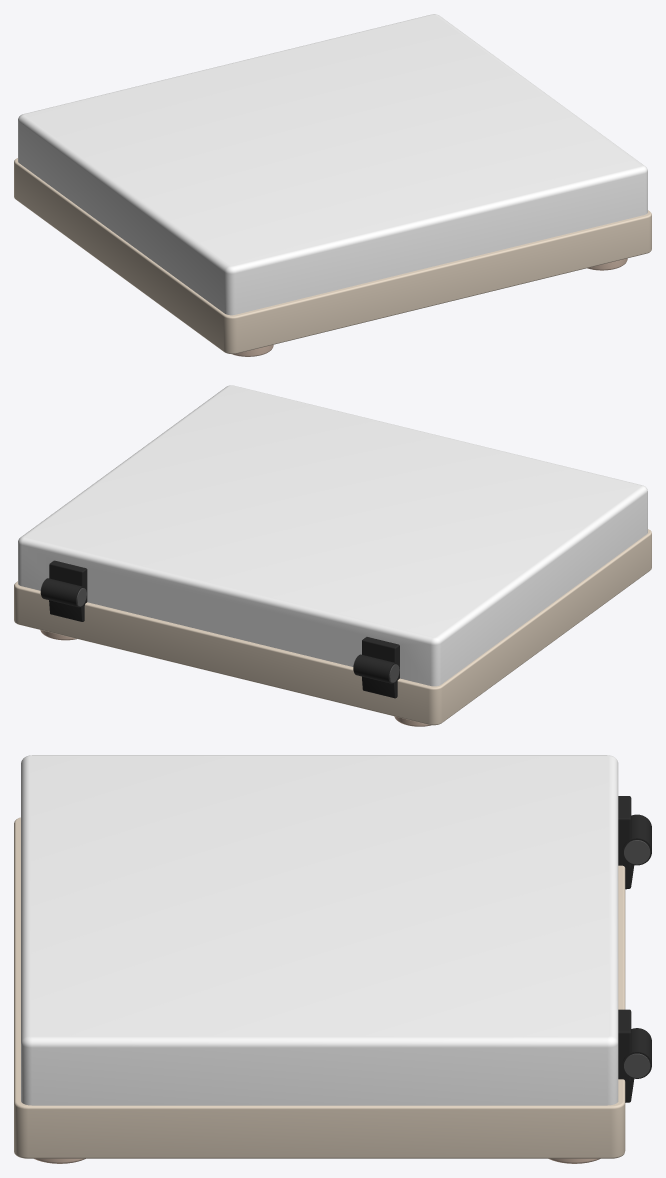
File: turntable.glb
3 views of the same model, one above another, from view 1: azimuth 30°, elevation 25°; view 2: azimuth 150°, elevation 25°; view 3: azimuth 270°, elevation 25° (orthographic). The views are drawn at different scales.
Visible parts, largest first — view 1: CoverGlass, PlinthBody; view 2: CoverGlass, PlinthBody, HingeBarrelLCap, HingeBarrelRCap, CoverHingeR, CoverHingeL, HingeBracketL, HingeBracketR; view 3: CoverGlass, PlinthBody, CoverHingeR, CoverHingeL, HingeBarrelLCap, HingeBarrelRCap.
Part boxes in pixels (x1=…): CoverGlass: x1=18, y1=14, x2=647, y2=315; PlinthBody: x1=14, y1=158, x2=651, y2=354; CoverGlass: x1=18, y1=385, x2=647, y2=686; PlinthBody: x1=14, y1=529, x2=651, y2=725; HingeBarrelLCap: x1=353, y1=654, x2=398, y2=683; HingeBarrelRCap: x1=41, y1=578, x2=85, y2=607; CoverHingeR: x1=49, y1=560, x2=87, y2=606; CoverHingeL: x1=362, y1=637, x2=399, y2=679; HingeBracketL: x1=362, y1=676, x2=397, y2=698; HingeBracketR: x1=49, y1=600, x2=84, y2=621; CoverGlass: x1=21, y1=755, x2=618, y2=1105; PlinthBody: x1=14, y1=817, x2=625, y2=1158; CoverHingeR: x1=618, y1=1009, x2=631, y2=1081; CoverHingeL: x1=618, y1=796, x2=631, y2=867; HingeBarrelLCap: x1=622, y1=814, x2=651, y2=865; HingeBarrelRCap: x1=622, y1=1028, x2=651, y2=1078.
Bounding box in the file's own units: 10.5 × 2.23 × 9.71.
